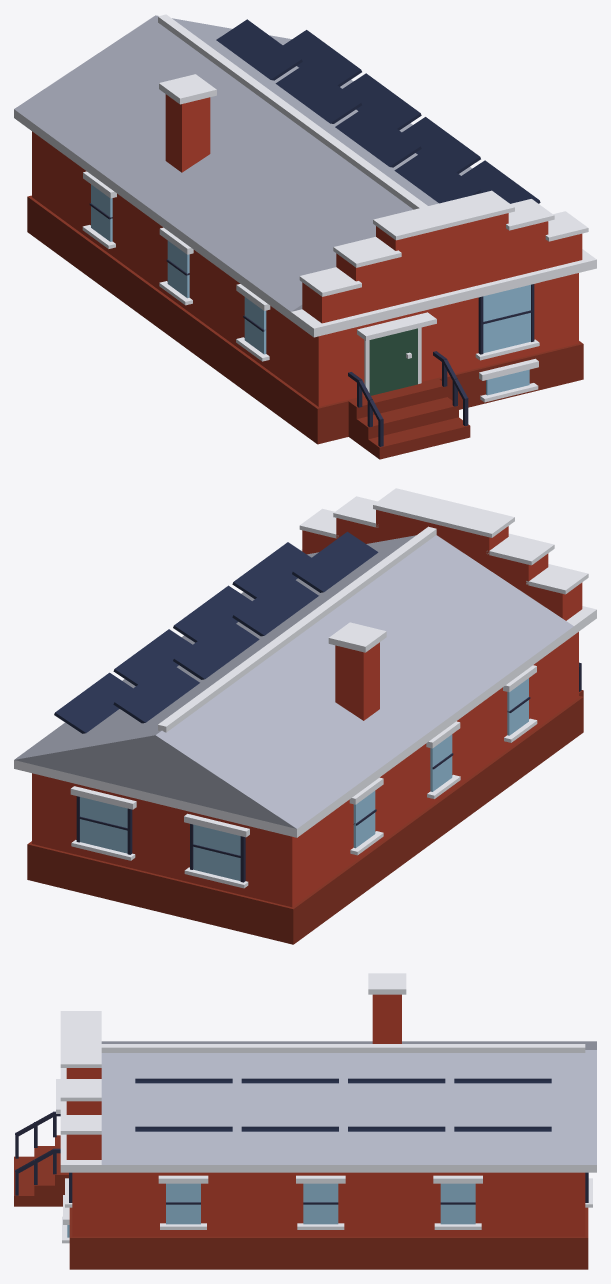
Rendered from house-1x2-1f-dutch-a-solar.glb.
3 views of the same model, one above another, from view 1: azimuth 30°, elevation 25°; view 2: azimuth 150°, elevation 25°; view 3: azimuth 270°, elevation 25° (orthographic). The views are drawn at different scales.
Visible parts, largest first — view 1: house-1x2-1f-dutch-a-solar; view 2: house-1x2-1f-dutch-a-solar; view 3: house-1x2-1f-dutch-a-solar.
Part boxes in pixels (x1,y1,x2,y2): house-1x2-1f-dutch-a-solar: [14, 14, 596, 459]; house-1x2-1f-dutch-a-solar: [14, 488, 596, 944]; house-1x2-1f-dutch-a-solar: [14, 973, 596, 1269].
Bounding box in the file's own units: 1 × 0.73 × 2.
Materials: 1 (1 with a texture image).
